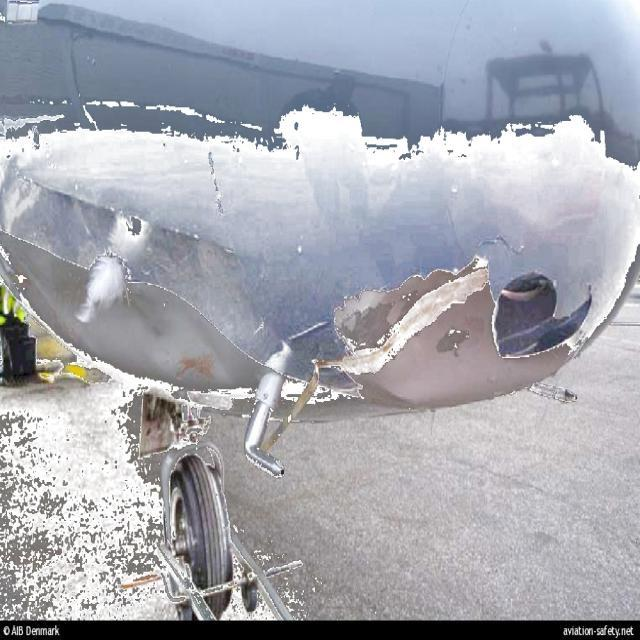crack: (476, 232, 529, 262)
dent: (371, 327, 437, 408), (130, 295, 181, 381), (192, 317, 235, 382)
